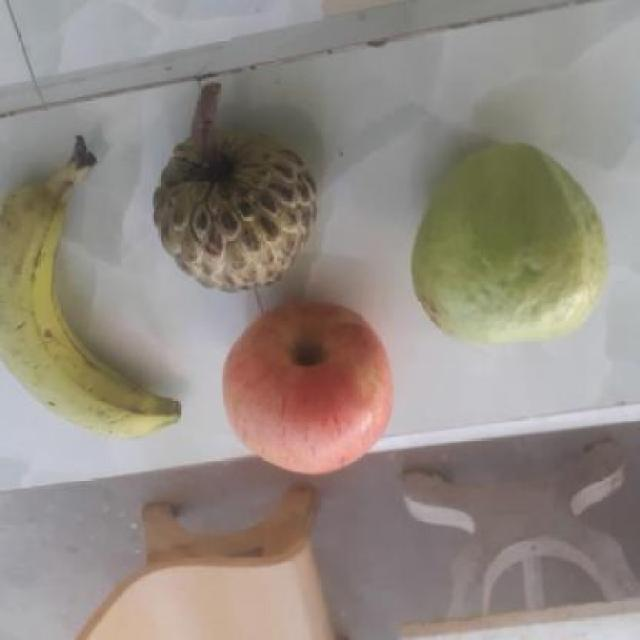apple: (218, 298, 402, 474)
banana: (1, 159, 187, 436)
guava: (417, 147, 615, 338)
sugar apple: (152, 100, 320, 292)
